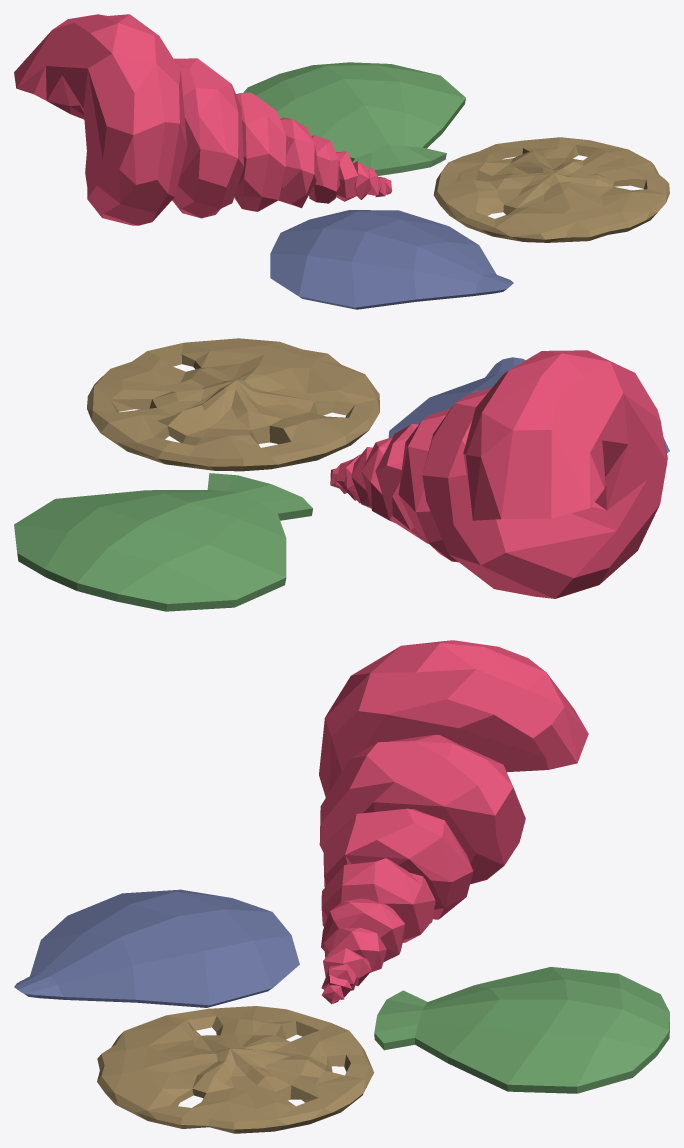
The model's file is sea-shell.glb.
3 views of the same model, one above another, from view 1: azimuth 30°, elevation 25°; view 2: azimuth 150°, elevation 25°; view 3: azimuth 270°, elevation 25° (orthographic). The views are drawn at different scales.
Visible parts, largest first — view 1: BigShell_2, SandDollar_4, Fan.001_6, Fan_5; view 2: BigShell_2, SandDollar_4, Fan_5, Fan.001_6; view 3: BigShell_2, SandDollar_4, Fan_5, Fan.001_6.
Boxes of the visible parts, x1,y1,x2,y2 form: BigShell_2: (14, 14, 392, 225); SandDollar_4: (433, 137, 669, 242); Fan.001_6: (270, 210, 513, 309); Fan_5: (243, 62, 465, 175); BigShell_2: (330, 350, 667, 598); SandDollar_4: (87, 338, 379, 471); Fan_5: (14, 473, 312, 611); Fan.001_6: (388, 357, 669, 453); BigShell_2: (319, 640, 588, 1004); SandDollar_4: (97, 1006, 374, 1133); Fan_5: (374, 967, 669, 1093); Fan.001_6: (14, 889, 299, 1007).
Size of the model in its own units: 5.2 by 1.9 by 4.84.
